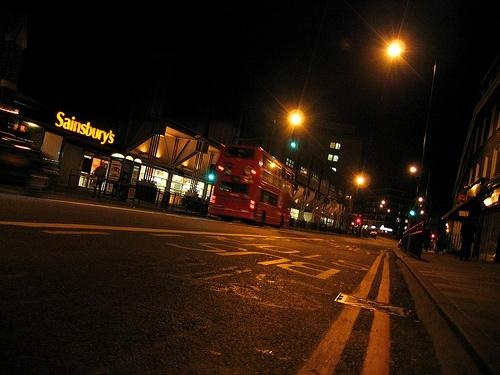bus: (210, 143, 296, 230)
